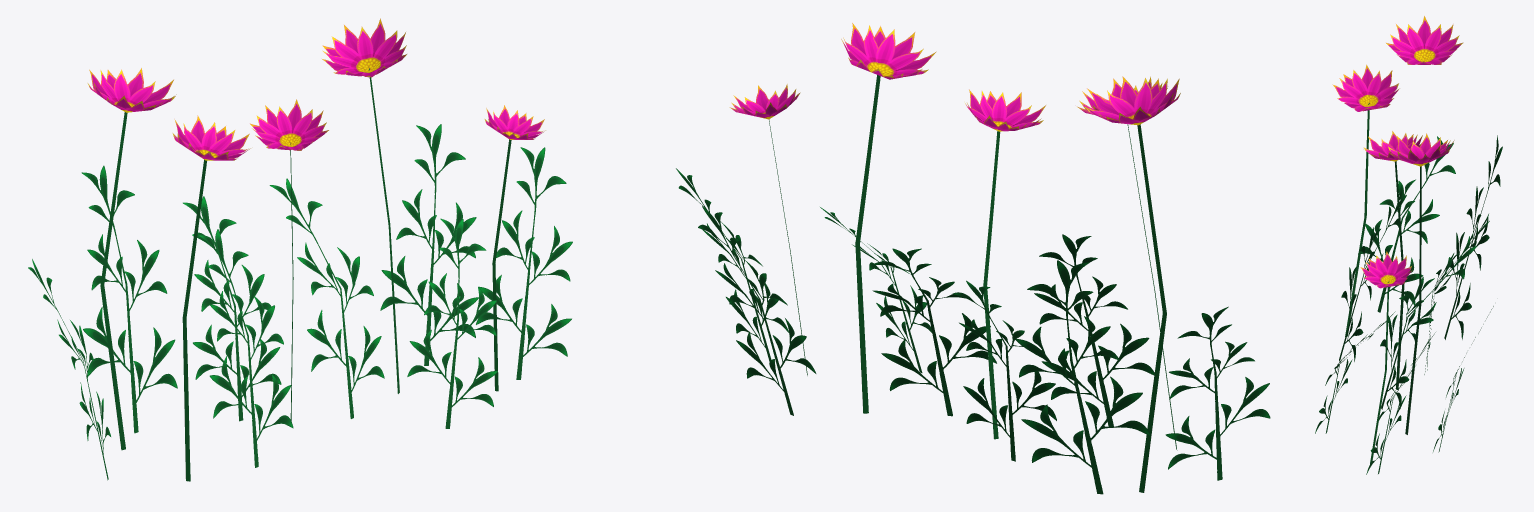
The model's file is Flower_05ac.FBX.
3 renders of one model, left to right at view 1: azimuth 30°, elevation 25°; view 2: azimuth 150°, elevation 25°; view 3: azimuth 270°, elevation 25°, orthographic. The views are drawn at different scales.
Visible parts, largest first — view 1: Flower_05c; view 2: Flower_05c; view 3: Flower_05c.
Boxes of the visible parts, left/top/right/bottom form: Flower_05c: left=28, top=18, right=572, bottom=481; Flower_05c: left=676, top=23, right=1270, bottom=494; Flower_05c: left=1315, top=16, right=1502, bottom=474.
Bounding box in the file's own units: 50.5 × 31.68 × 19.66.
